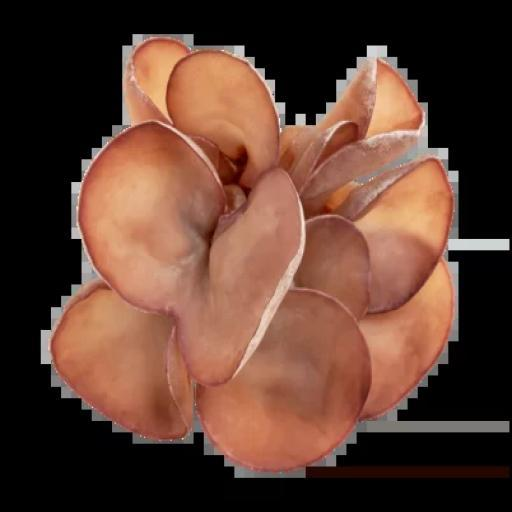mushroom: (43, 21, 466, 468)
